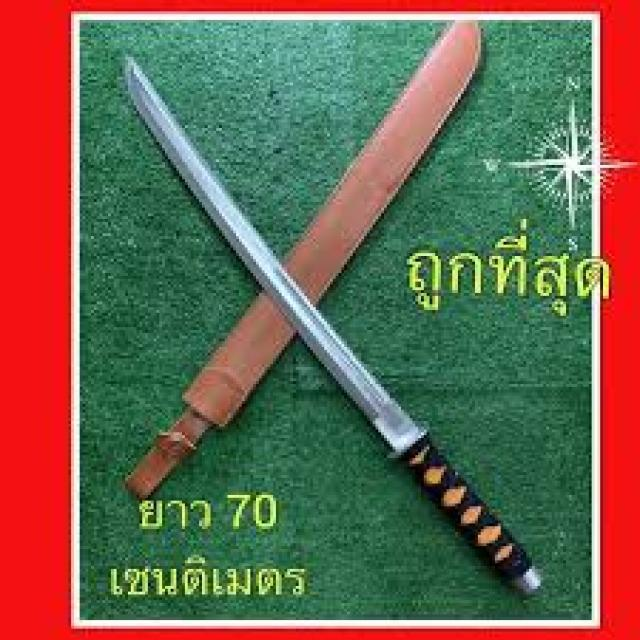long sword: (119, 53, 548, 602)
